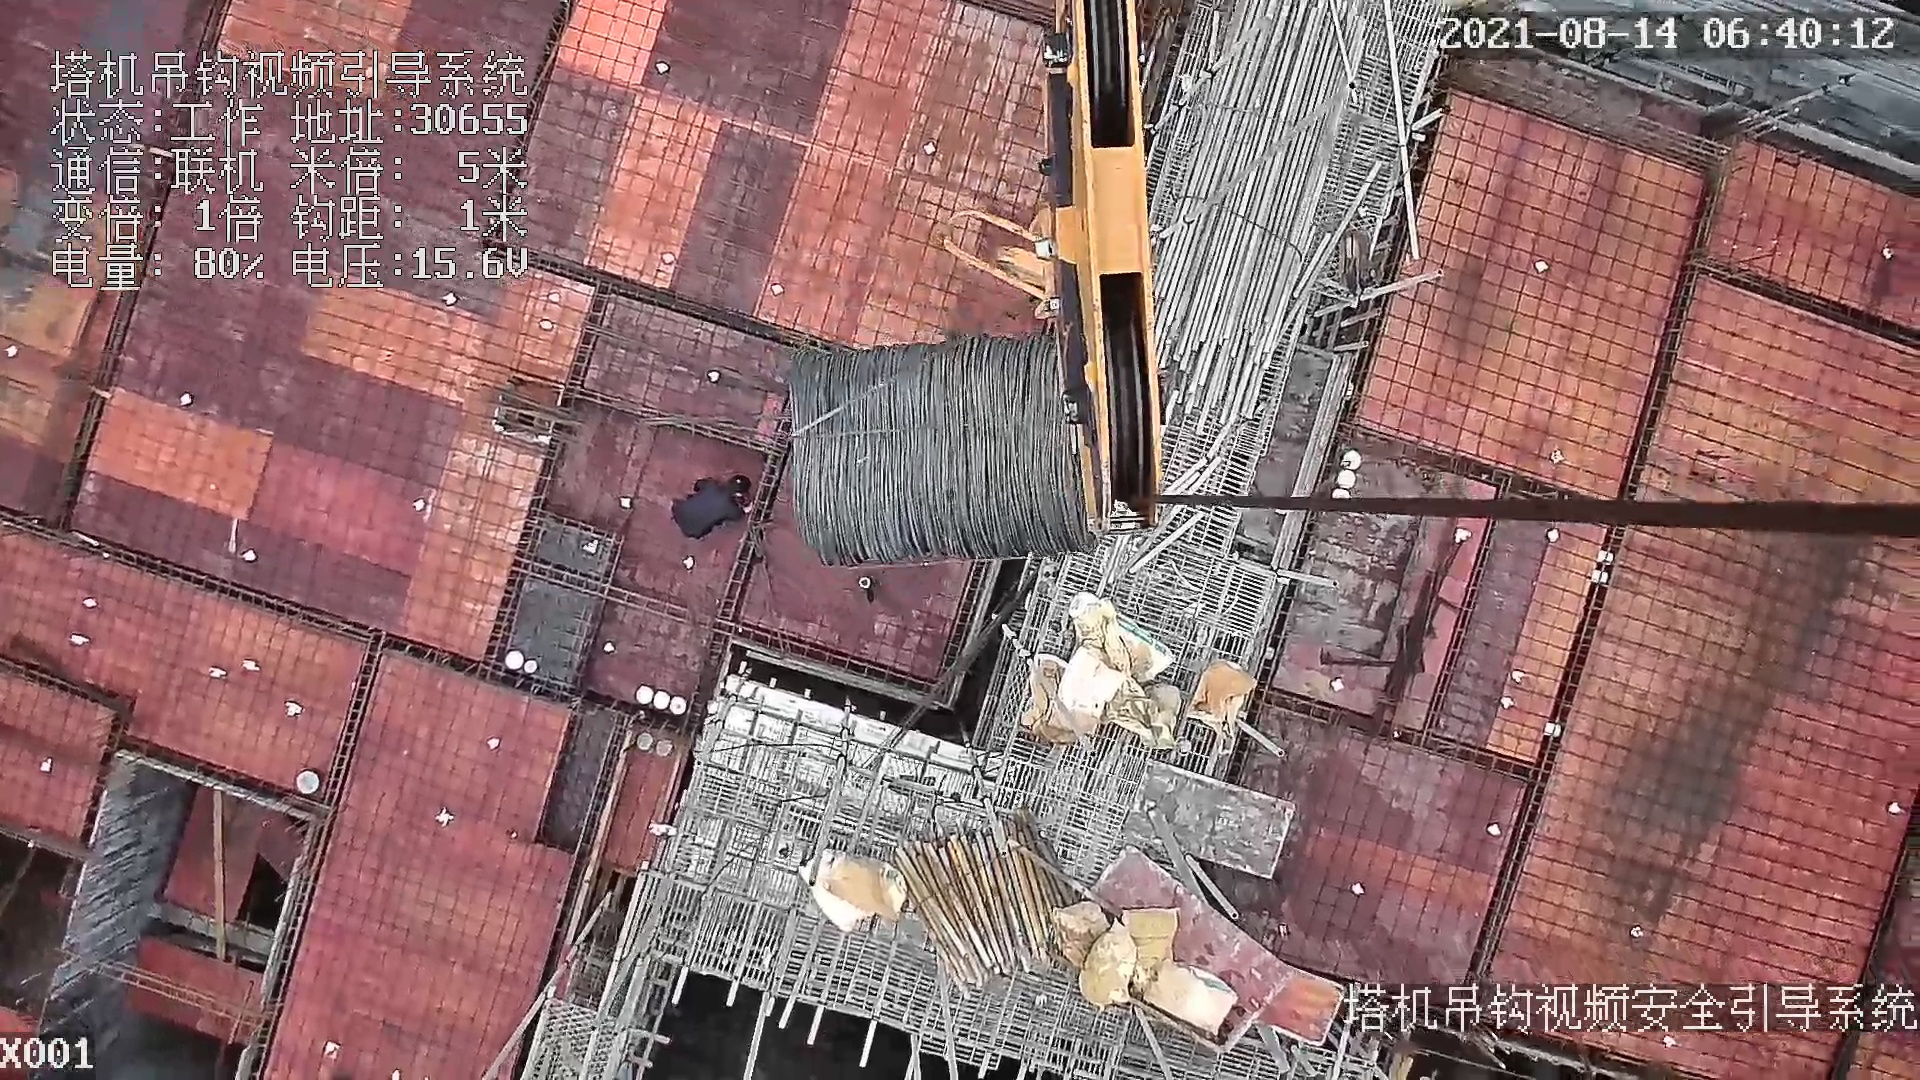hook: (938, 1, 1168, 547)
person: (660, 465, 759, 540)
scaffold: (896, 802, 1067, 963)
